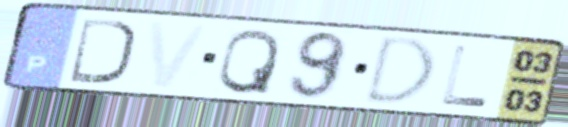9: (288, 29, 354, 104)
D: (359, 34, 439, 107), (66, 14, 137, 87)
L: (437, 42, 493, 110)
Q: (214, 27, 284, 97)
V: (145, 19, 214, 91)
